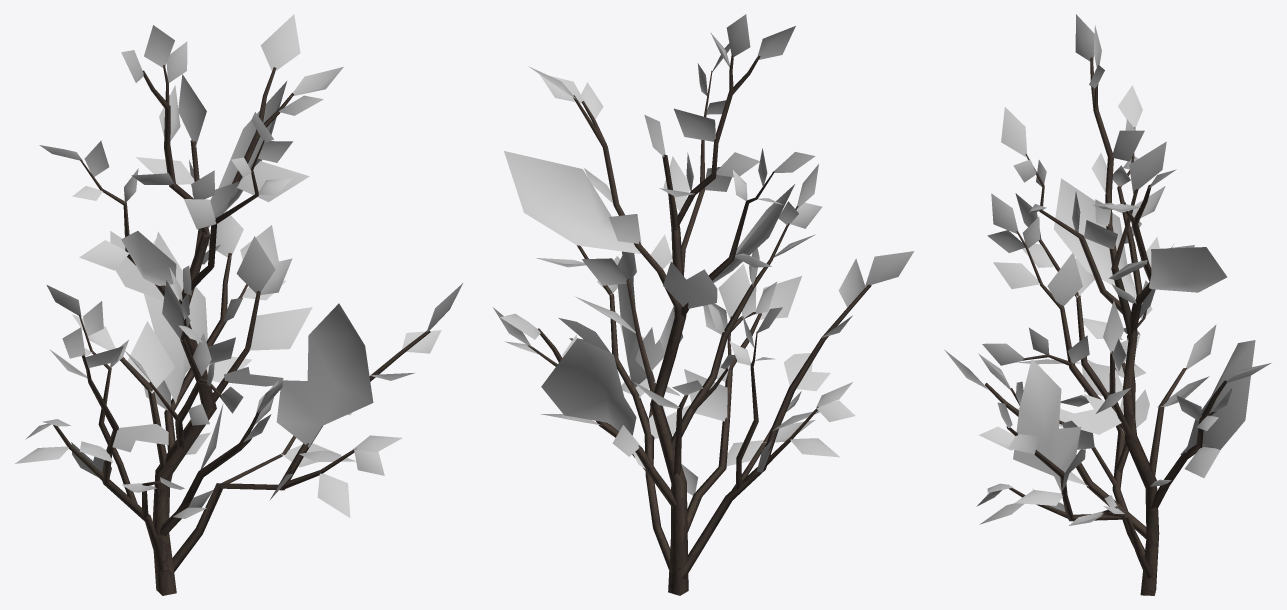
The model's file is SM_FW01_TreeSapling_02.fbx.
3 views of the same model, side by side, from view 1: azimuth 30°, elevation 25°; view 2: azimuth 150°, elevation 25°; view 3: azimuth 270°, elevation 25° (orthographic). The views are drawn at different scales.
Parts seen in each view (by area): view 1: SM_FW01_TreeSapling_02_LOD0; view 2: SM_FW01_TreeSapling_02_LOD0; view 3: SM_FW01_TreeSapling_02_LOD0.
Boxes of the visible parts, x1,y1,x2,y2 form: SM_FW01_TreeSapling_02_LOD0: (15,14,462,595); SM_FW01_TreeSapling_02_LOD0: (493,14,914,595); SM_FW01_TreeSapling_02_LOD0: (944,14,1271,595).
Size of what is drawn, in the model's own units: 0.9513 by 1.37 by 0.746.
